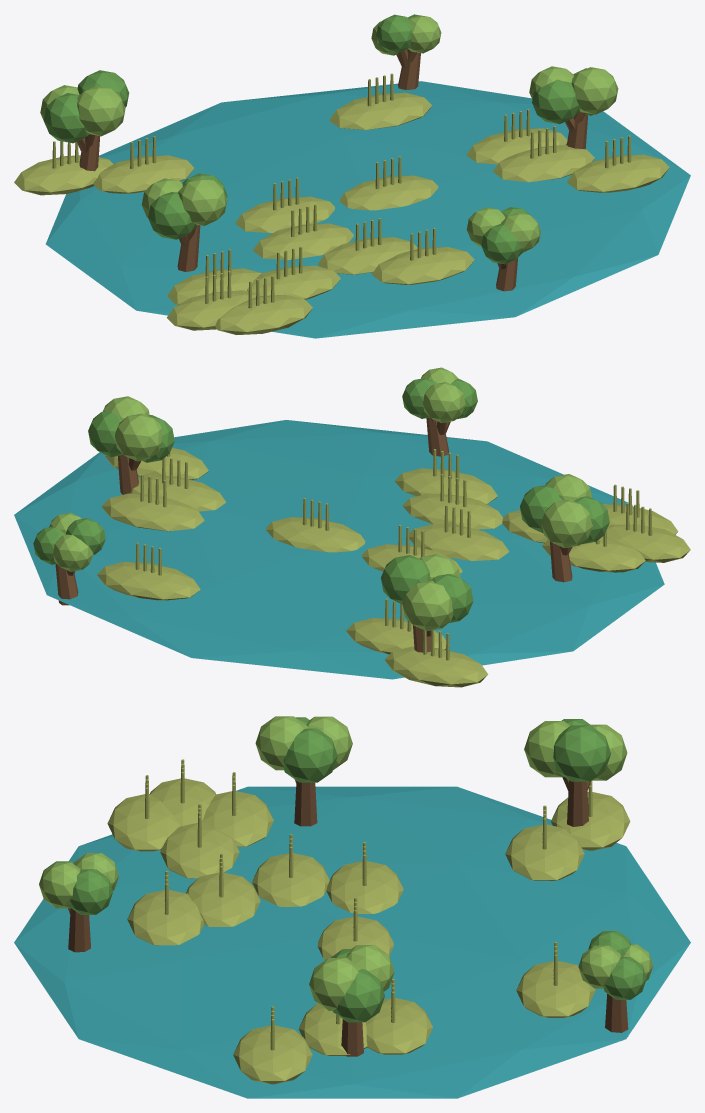
The model's file is FEATURE_PANTANAL.fbx.
3 renders of one model, top to bottom at view 1: azimuth 30°, elevation 25°; view 2: azimuth 150°, elevation 25°; view 3: azimuth 270°, elevation 25°, orthographic. The views are drawn at different scales.
Parts seen in each view (by area): view 1: Wetland, Marsh_islet.004, Marsh_islet.001, Marsh_islet.011, Marsh_islet.008, Marsh_islet.007, Marsh_islet.010, Marsh_islet.012, Marsh_islet.006, Marsh_islet, Marsh_islet.014, Marsh_islet.013 (+21 smaller); view 2: Wetland, Marsh_islet.006, Marsh_islet.008, Marsh_islet.003, Marsh_islet, Marsh_islet.012, Marsh_islet.013, Marsh_islet.009, Marsh_islet.005, Marsh_islet.001, Broadleaf_crown.037, Marsh_islet.010 (+26 smaller); view 3: Wetland, Marsh_islet.004, Marsh_islet.010, Marsh_islet.008, Marsh_islet.001, Marsh_islet.012, Marsh_islet.002, Marsh_islet.014, Marsh_islet.013, Marsh_islet.011, Marsh_islet.003, Marsh_islet.009 (+24 smaller).
Part boxes in pixels (bbox=[...]): Wetland: bbox=[45, 81, 690, 338]; Marsh_islet.004: bbox=[567, 154, 669, 192]; Marsh_islet.001: bbox=[372, 247, 474, 284]; Marsh_islet.011: bbox=[215, 294, 312, 334]; Marsh_islet.008: bbox=[329, 92, 431, 129]; Marsh_islet.007: bbox=[493, 145, 594, 182]; Marsh_islet.010: bbox=[93, 155, 194, 193]; Marsh_islet.012: bbox=[253, 223, 353, 259]; Marsh_islet.006: bbox=[14, 155, 113, 195]; Marsh_islet: bbox=[339, 175, 438, 210]; Marsh_islet.014: bbox=[235, 196, 334, 232]; Marsh_islet.013: bbox=[317, 237, 417, 274]; Wetland: bbox=[14, 420, 664, 679]; Marsh_islet.006: bbox=[384, 646, 488, 687]; Marsh_islet.008: bbox=[97, 561, 200, 600]; Marsh_islet.003: bbox=[101, 493, 204, 531]; Marsh_islet: bbox=[266, 517, 365, 552]; Marsh_islet.012: bbox=[409, 524, 509, 560]; Marsh_islet.013: bbox=[402, 493, 502, 529]; Marsh_islet.009: bbox=[542, 536, 645, 572]; Marsh_islet.005: bbox=[603, 524, 690, 562]; Marsh_islet.001: bbox=[394, 468, 497, 504]; Broadleaf_crown.037: bbox=[402, 580, 453, 631]; Marsh_islet.010: bbox=[346, 618, 449, 654]; Wetland: bbox=[14, 786, 690, 1098]; Marsh_islet.004: bbox=[233, 1025, 312, 1084]; Marsh_islet.010: bbox=[505, 824, 584, 880]; Marsh_islet.008: bbox=[516, 961, 595, 1017]; Marsh_islet.001: bbox=[127, 890, 203, 945]; Marsh_islet.012: bbox=[252, 853, 329, 906]; Marsh_islet.002: bbox=[160, 822, 239, 878]; Marsh_islet.014: bbox=[326, 861, 403, 913]; Marsh_islet.013: bbox=[186, 872, 260, 926]; Marsh_islet.011: bbox=[107, 794, 180, 851]; Marsh_islet.003: bbox=[366, 998, 432, 1054]; Marsh_islet.009: bbox=[201, 791, 273, 846].
Bounding box in the file's own units: 148 × 29.49 × 136.
